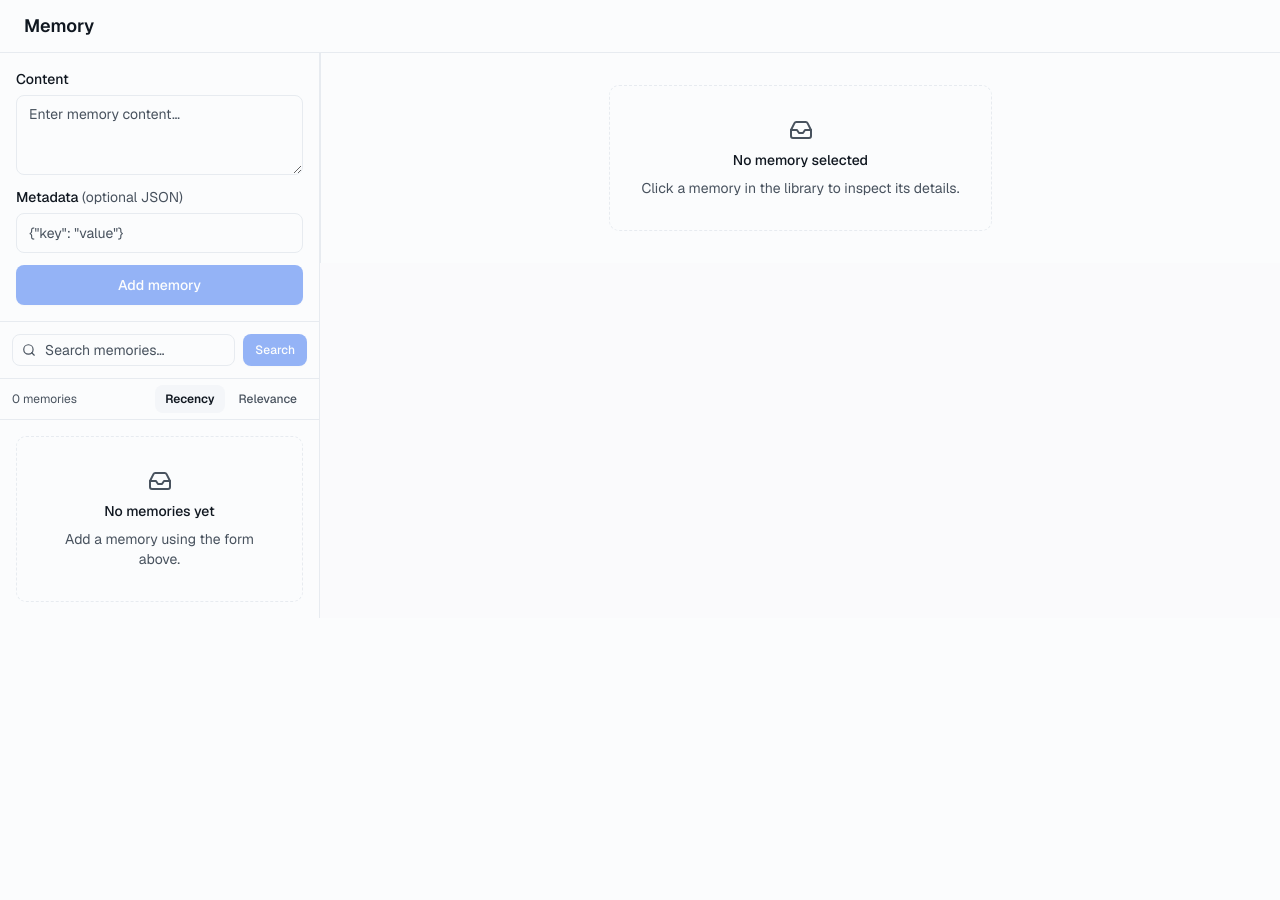
it: MemoryWorkspace › search_ranked_renders_results_with_scores
This screenshot has width=1280, height=900.
Expected: the button "Search" is disabled, 243,334 -> 307,366
In the field labelled "Search memories…": x=124, y=350 12,334 -> 235,366, type "France capital"
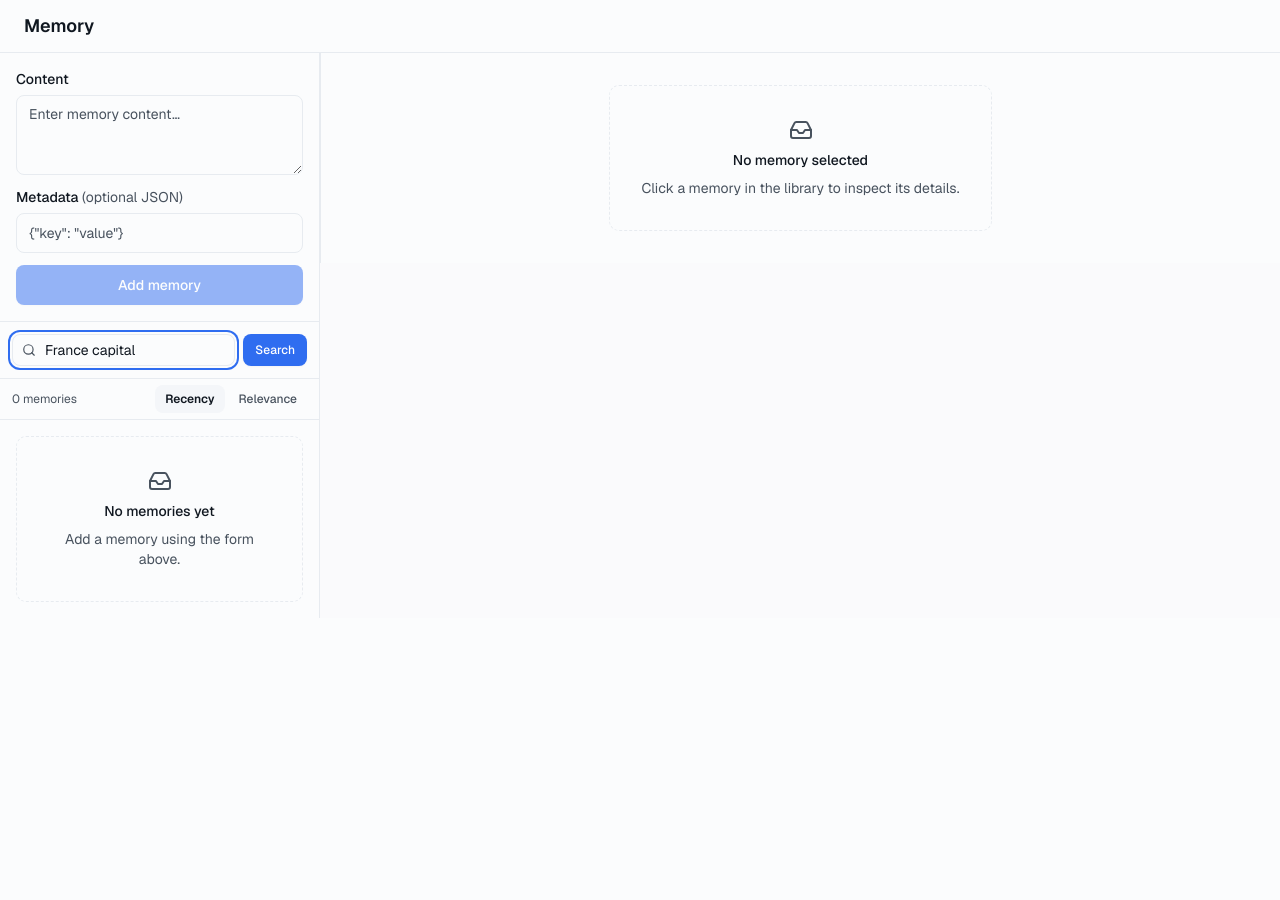
Result: the button "Search" is enabled
Click the button "Search": x=275, y=350 243,334 -> 307,366
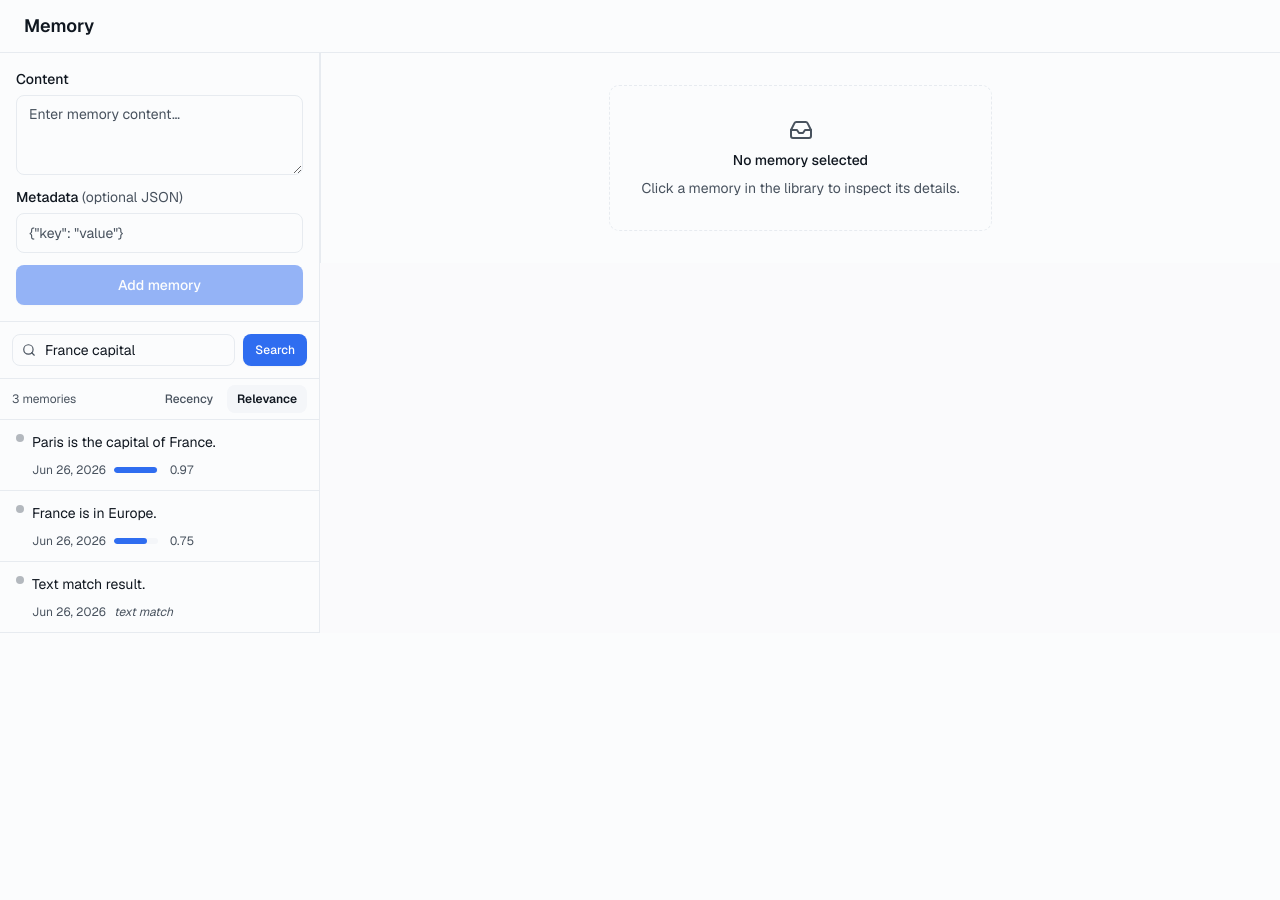
Result: the text "Paris is the capital of France." is shown at 32,432 -> 242,452
Result: the text "France is in Europe." is shown at 32,504 -> 156,522
Result: the text "Text match result." is shown at 32,575 -> 145,593
